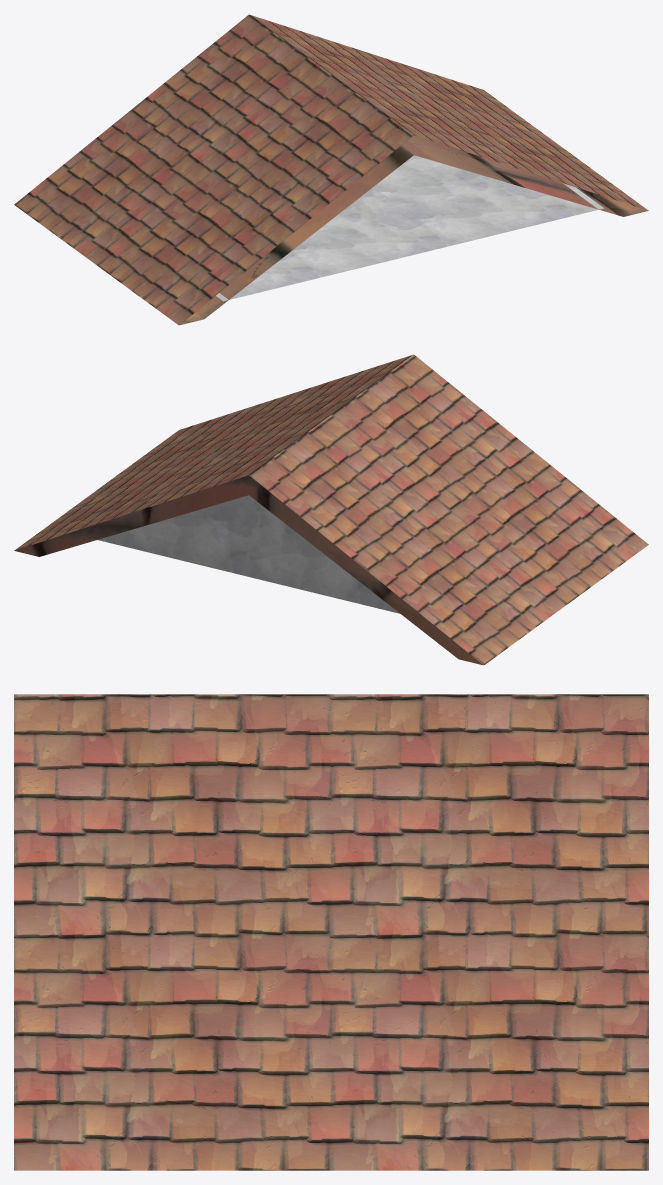
File: roof_6x2x4_head.fbx
3 views of the same model, one above another, from view 1: azimuth 30°, elevation 25°; view 2: azimuth 150°, elevation 25°; view 3: azimuth 270°, elevation 25° (orthographic). The views are drawn at different scales.
Visible parts, largest first — view 1: roof_6x2x4_head; view 2: roof_6x2x4_head; view 3: roof_6x2x4_head.
Boxes of the visible parts, left/top/right/bottom form: roof_6x2x4_head: left=14, top=14, right=648, bottom=325; roof_6x2x4_head: left=14, top=354, right=648, bottom=665; roof_6x2x4_head: left=14, top=694, right=648, bottom=1170.
Size of the model in its own units: 740 by 200 by 450.
